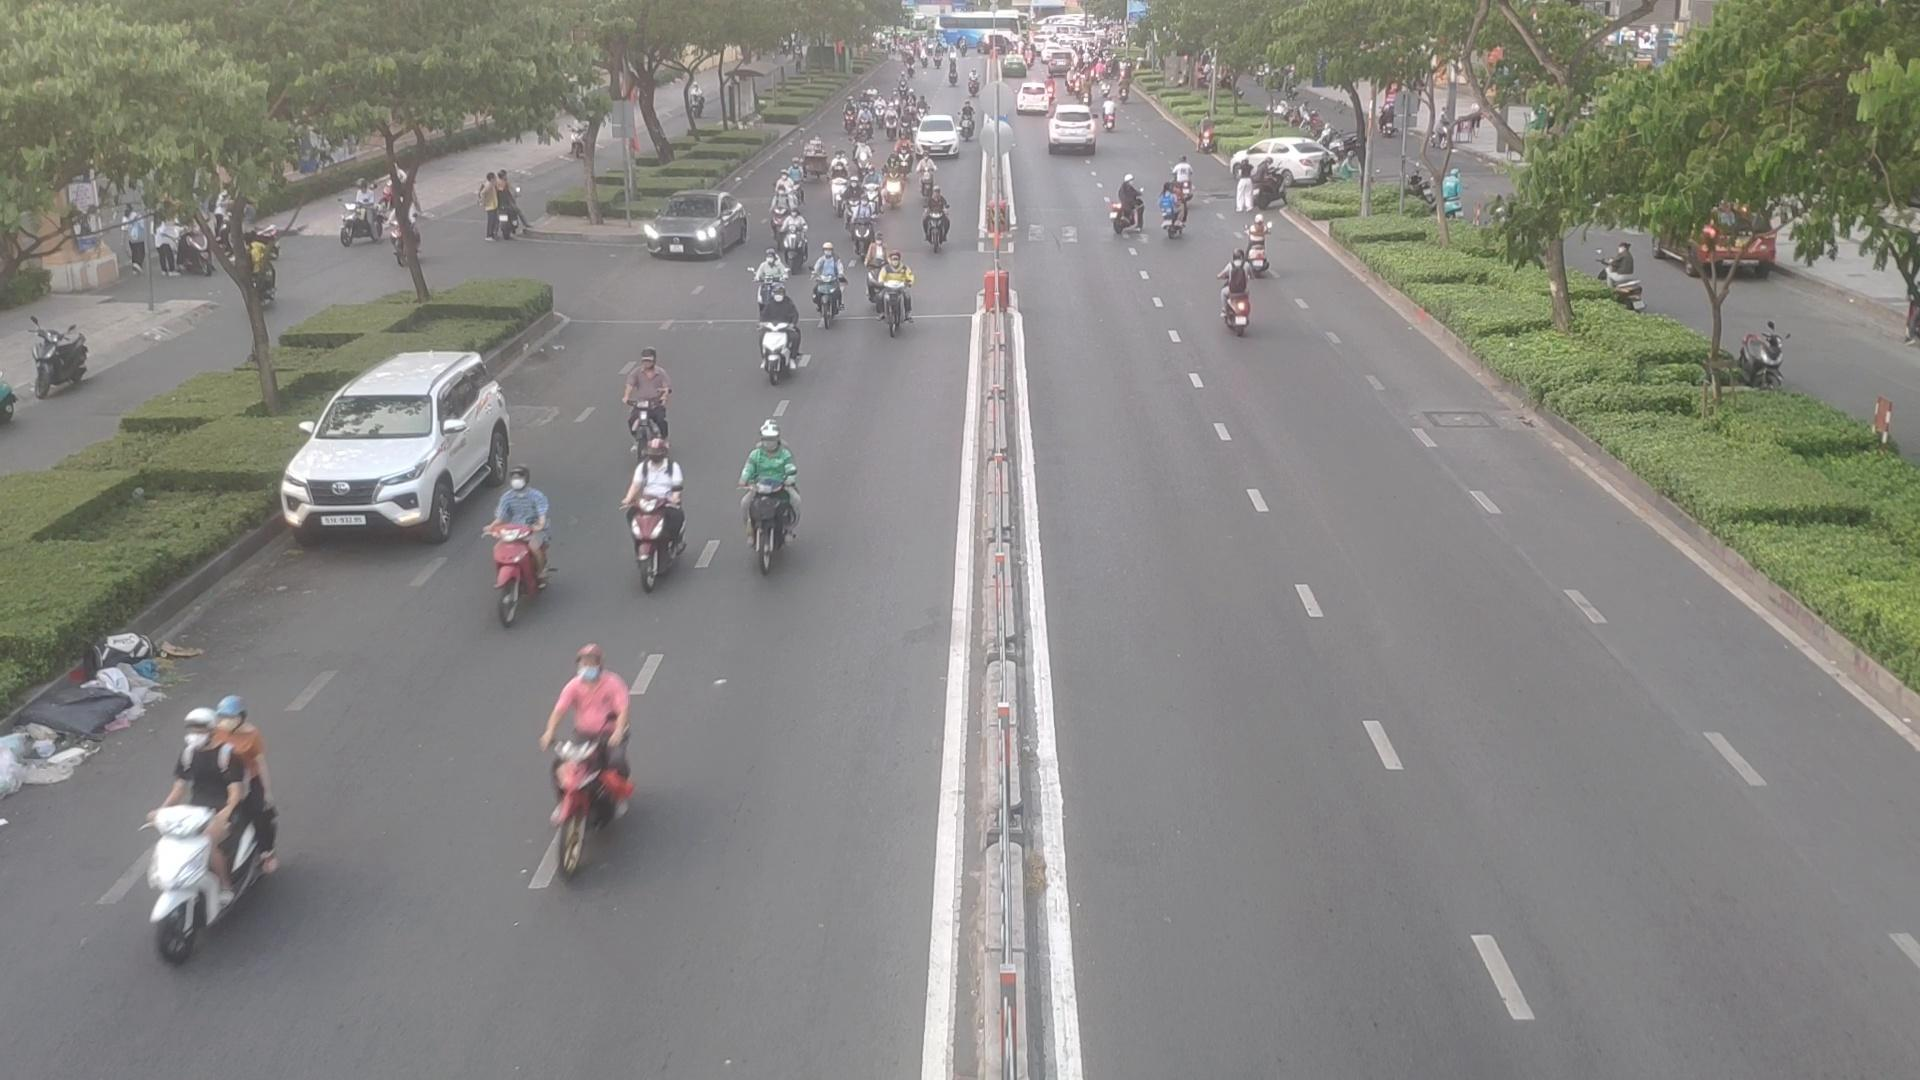car: (281, 355, 517, 546), (637, 191, 748, 261), (1236, 136, 1342, 186), (916, 116, 967, 158)
motorbike: (127, 694, 287, 959), (533, 644, 651, 873), (471, 471, 553, 615), (735, 409, 796, 578), (626, 443, 678, 574), (620, 355, 673, 452), (1218, 248, 1255, 339), (764, 284, 798, 380), (876, 253, 910, 340), (1108, 173, 1147, 236), (815, 247, 837, 324), (1244, 214, 1273, 269), (754, 249, 781, 305), (852, 193, 877, 251), (767, 191, 793, 243), (785, 214, 808, 268), (865, 233, 885, 298), (1159, 185, 1183, 233), (1174, 157, 1197, 203), (881, 156, 902, 203), (924, 190, 942, 245), (843, 178, 860, 228), (832, 166, 848, 208), (865, 166, 878, 212), (897, 138, 911, 175), (915, 154, 930, 189), (856, 142, 866, 173)
